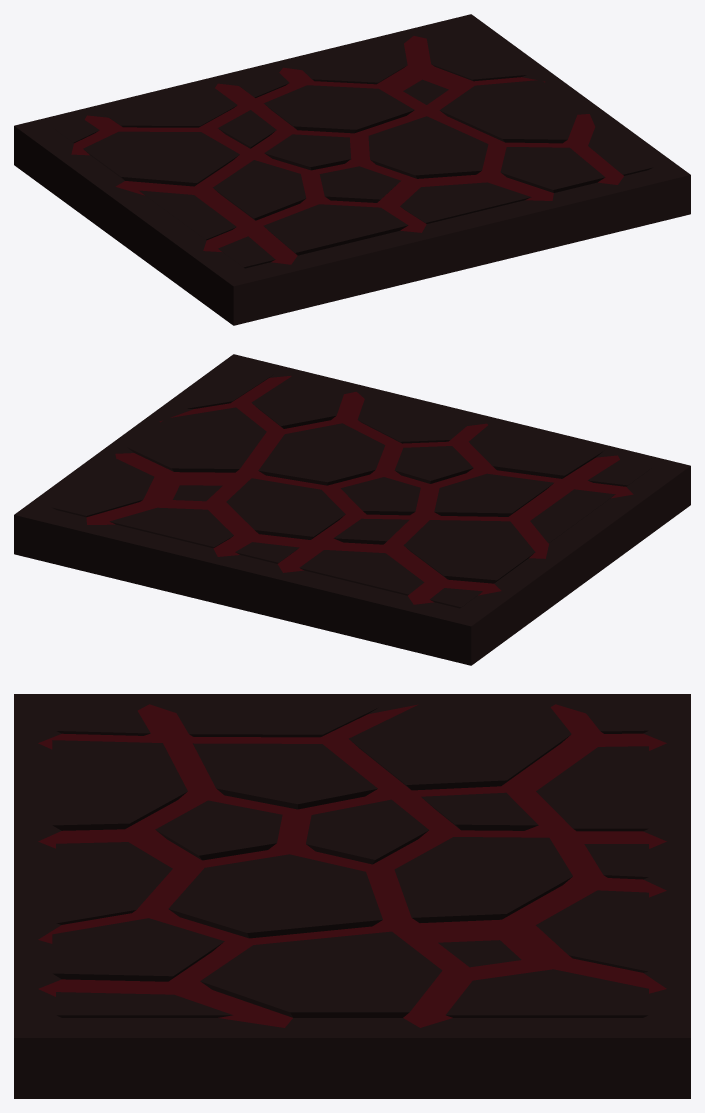
File: hell platform.fbx
3 views of the same model, one above another, from view 1: azimuth 30°, elevation 25°; view 2: azimuth 150°, elevation 25°; view 3: azimuth 270°, elevation 25° (orthographic). The views are drawn at different scales.
Parts seen in each view (by area): view 1: Plane002; view 2: Plane002; view 3: Plane002.
Part boxes in pixels (box(x1,y1,x2,y2)): Plane002: box(14, 14, 690, 325); Plane002: box(14, 354, 690, 665); Plane002: box(14, 694, 690, 1098).
Bounding box in the file's own units: 86.93 × 8.29 × 72.3.
